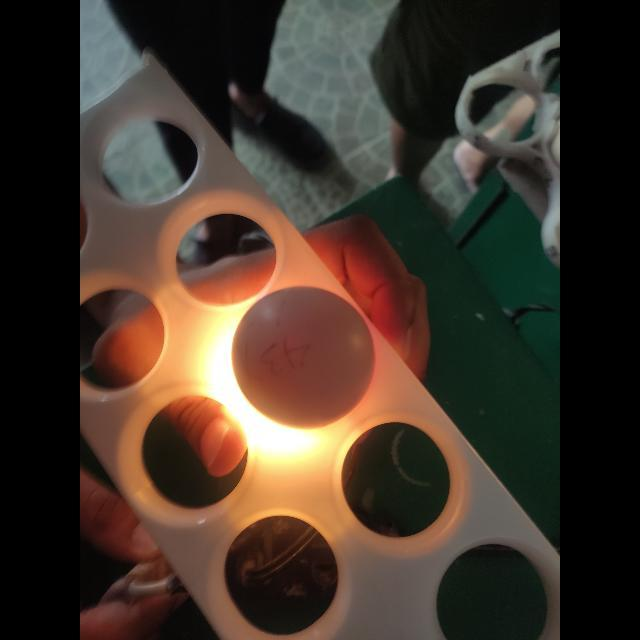Fertile: (228, 280, 382, 426)
